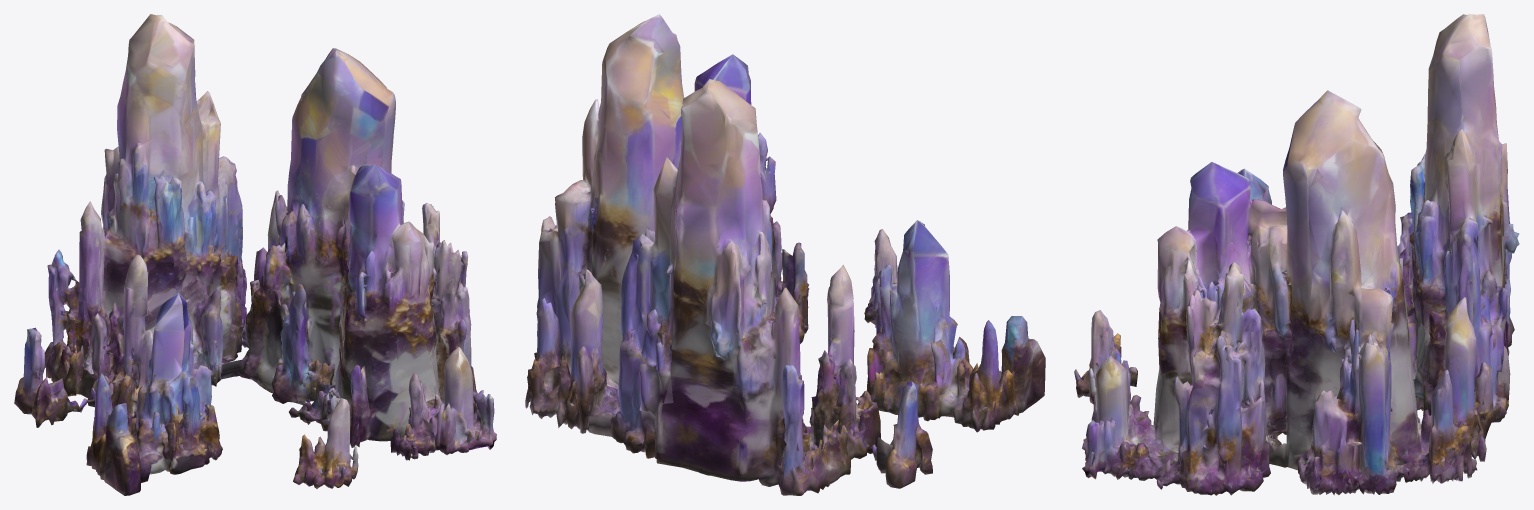
Rendered from Crystal_Peaks_PBR.glb.
3 views of the same model, side by side, from view 1: azimuth 30°, elevation 25°; view 2: azimuth 150°, elevation 25°; view 3: azimuth 270°, elevation 25° (orthographic). The views are drawn at different scales.
Visible parts, largest first — view 1: Crystal_Peaks_PBR; view 2: Crystal_Peaks_PBR; view 3: Crystal_Peaks_PBR.
Boxes of the visible parts, left/top/right/bottom form: Crystal_Peaks_PBR: left=14, top=14, right=496, bottom=495; Crystal_Peaks_PBR: left=525, top=14, right=1045, bottom=495; Crystal_Peaks_PBR: left=1074, top=14, right=1519, bottom=495.
Bounding box in the file's own units: 1.99 × 1.8 × 1.9.
1 material, 1 textured.
